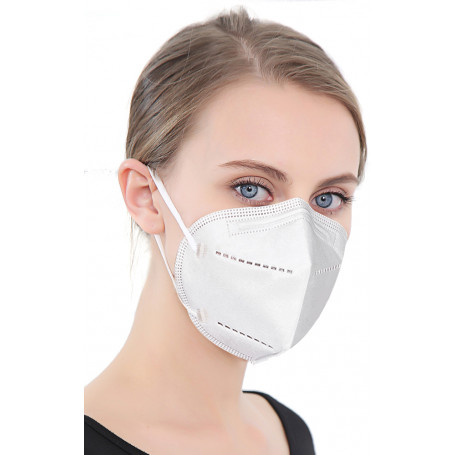with_mask: (154, 109, 342, 356)
